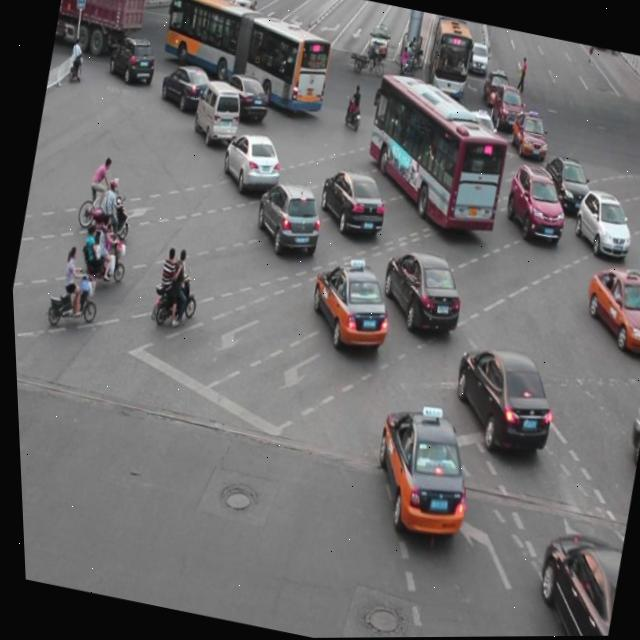car: (357, 401, 479, 542), (438, 336, 560, 457), (507, 525, 621, 637), (299, 252, 396, 352), (369, 242, 467, 339), (571, 260, 640, 359), (248, 177, 326, 261), (497, 162, 570, 245), (311, 165, 390, 240), (565, 184, 636, 263), (216, 127, 285, 196), (533, 152, 594, 221), (212, 70, 272, 130), (157, 59, 215, 115), (104, 32, 160, 90), (503, 109, 550, 161), (625, 242, 640, 324)
truck: (188, 77, 245, 145), (611, 378, 640, 490)
van: (351, 74, 517, 240), (153, 0, 338, 117)
